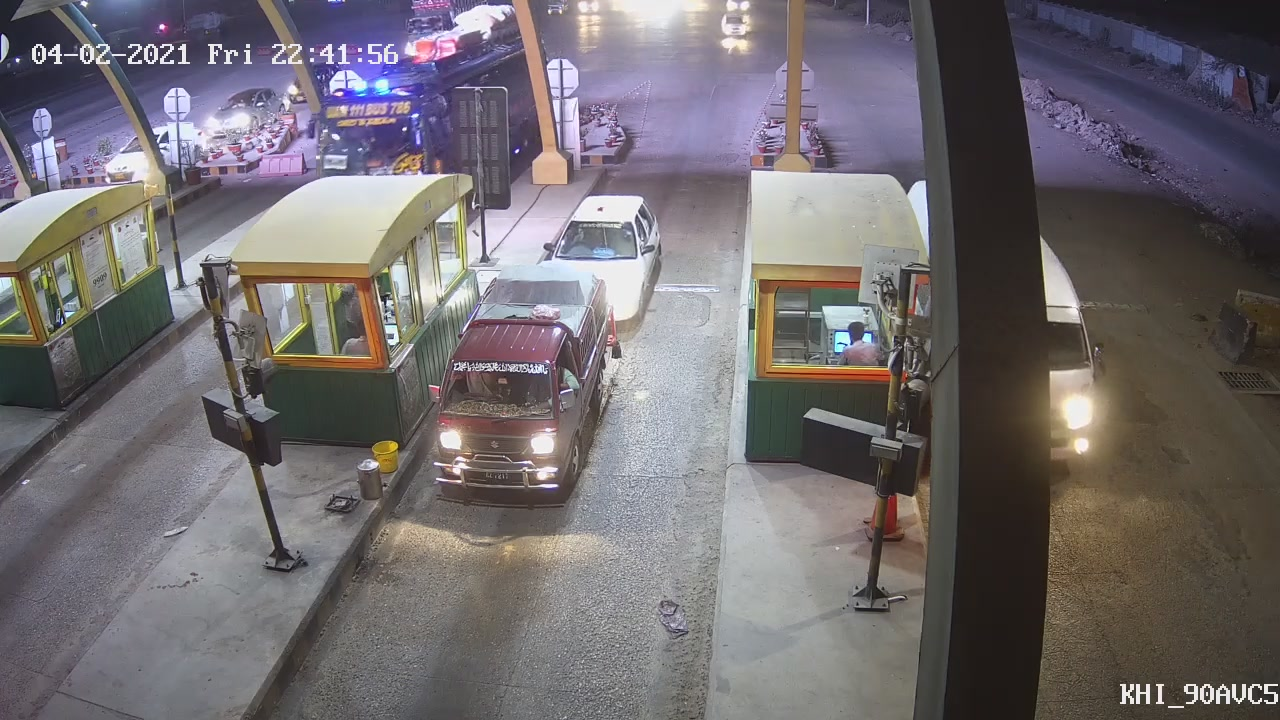F1: (424, 269, 622, 511)
